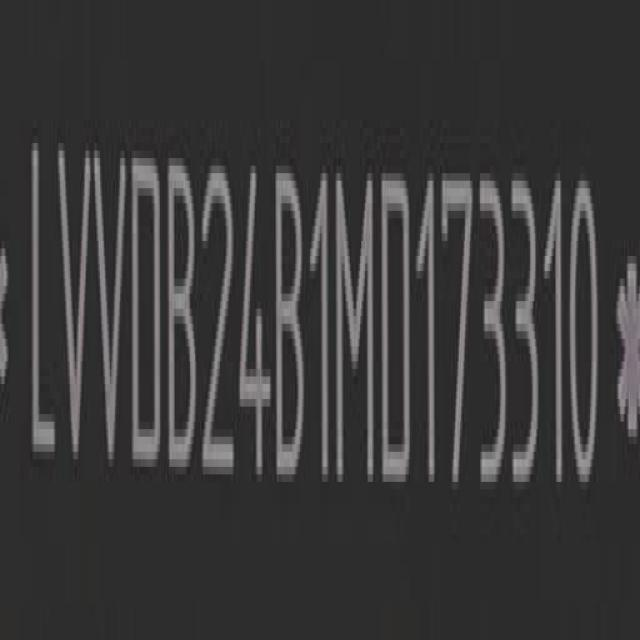0: (571, 182, 600, 486)
1: (308, 164, 333, 482), (548, 176, 568, 492), (418, 167, 436, 498)
2: (204, 165, 236, 477)
3: (514, 171, 540, 489)
4: (239, 160, 271, 480)
5: (479, 168, 508, 491)
7: (443, 165, 474, 495)
B: (166, 153, 198, 469), (277, 163, 306, 480)
D: (384, 165, 418, 482), (132, 148, 164, 467)
L: (29, 136, 57, 462)
M: (338, 168, 376, 478)
V: (55, 138, 90, 470), (94, 141, 129, 471)
